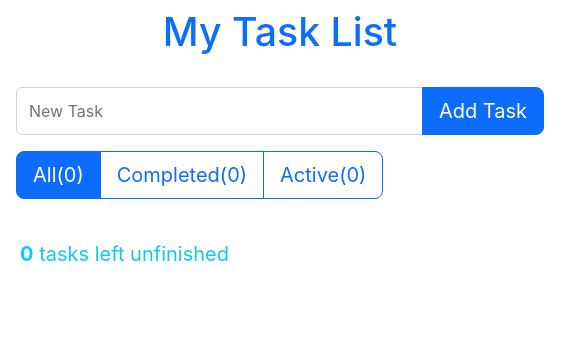
Test: App › Remove the task correctly
# Add a task
Type "Task 1" into the field with placeholder "New Task" at (219, 111), box [16,87,423,135]
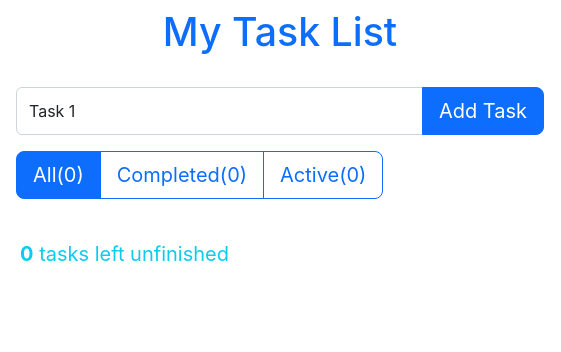
Click the button "Add Task" at (483, 111), box [422,87,544,135]
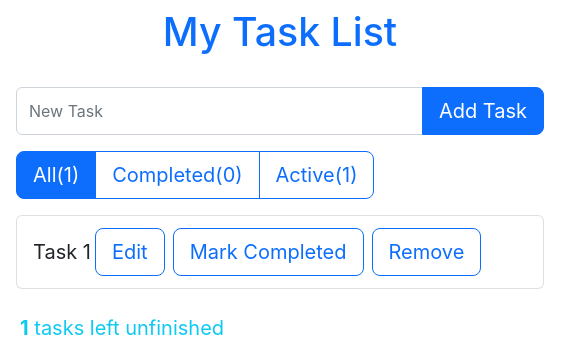
# Remove the task
Click the button "Remove" at (426, 252), box [372,228,481,276]
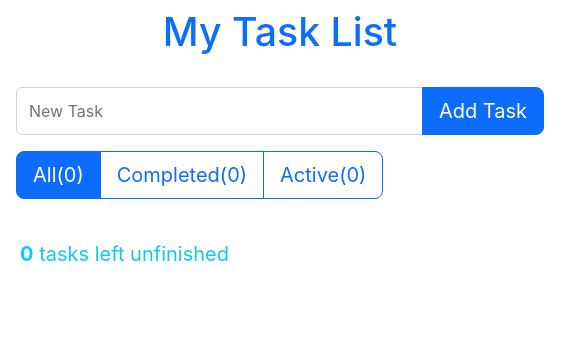
Now the text "Task 1" is gone
Now the button "All(0)" is shown, box [16,151,101,199]
Now the button "Active(0)" is shown, box [263,151,383,199]
